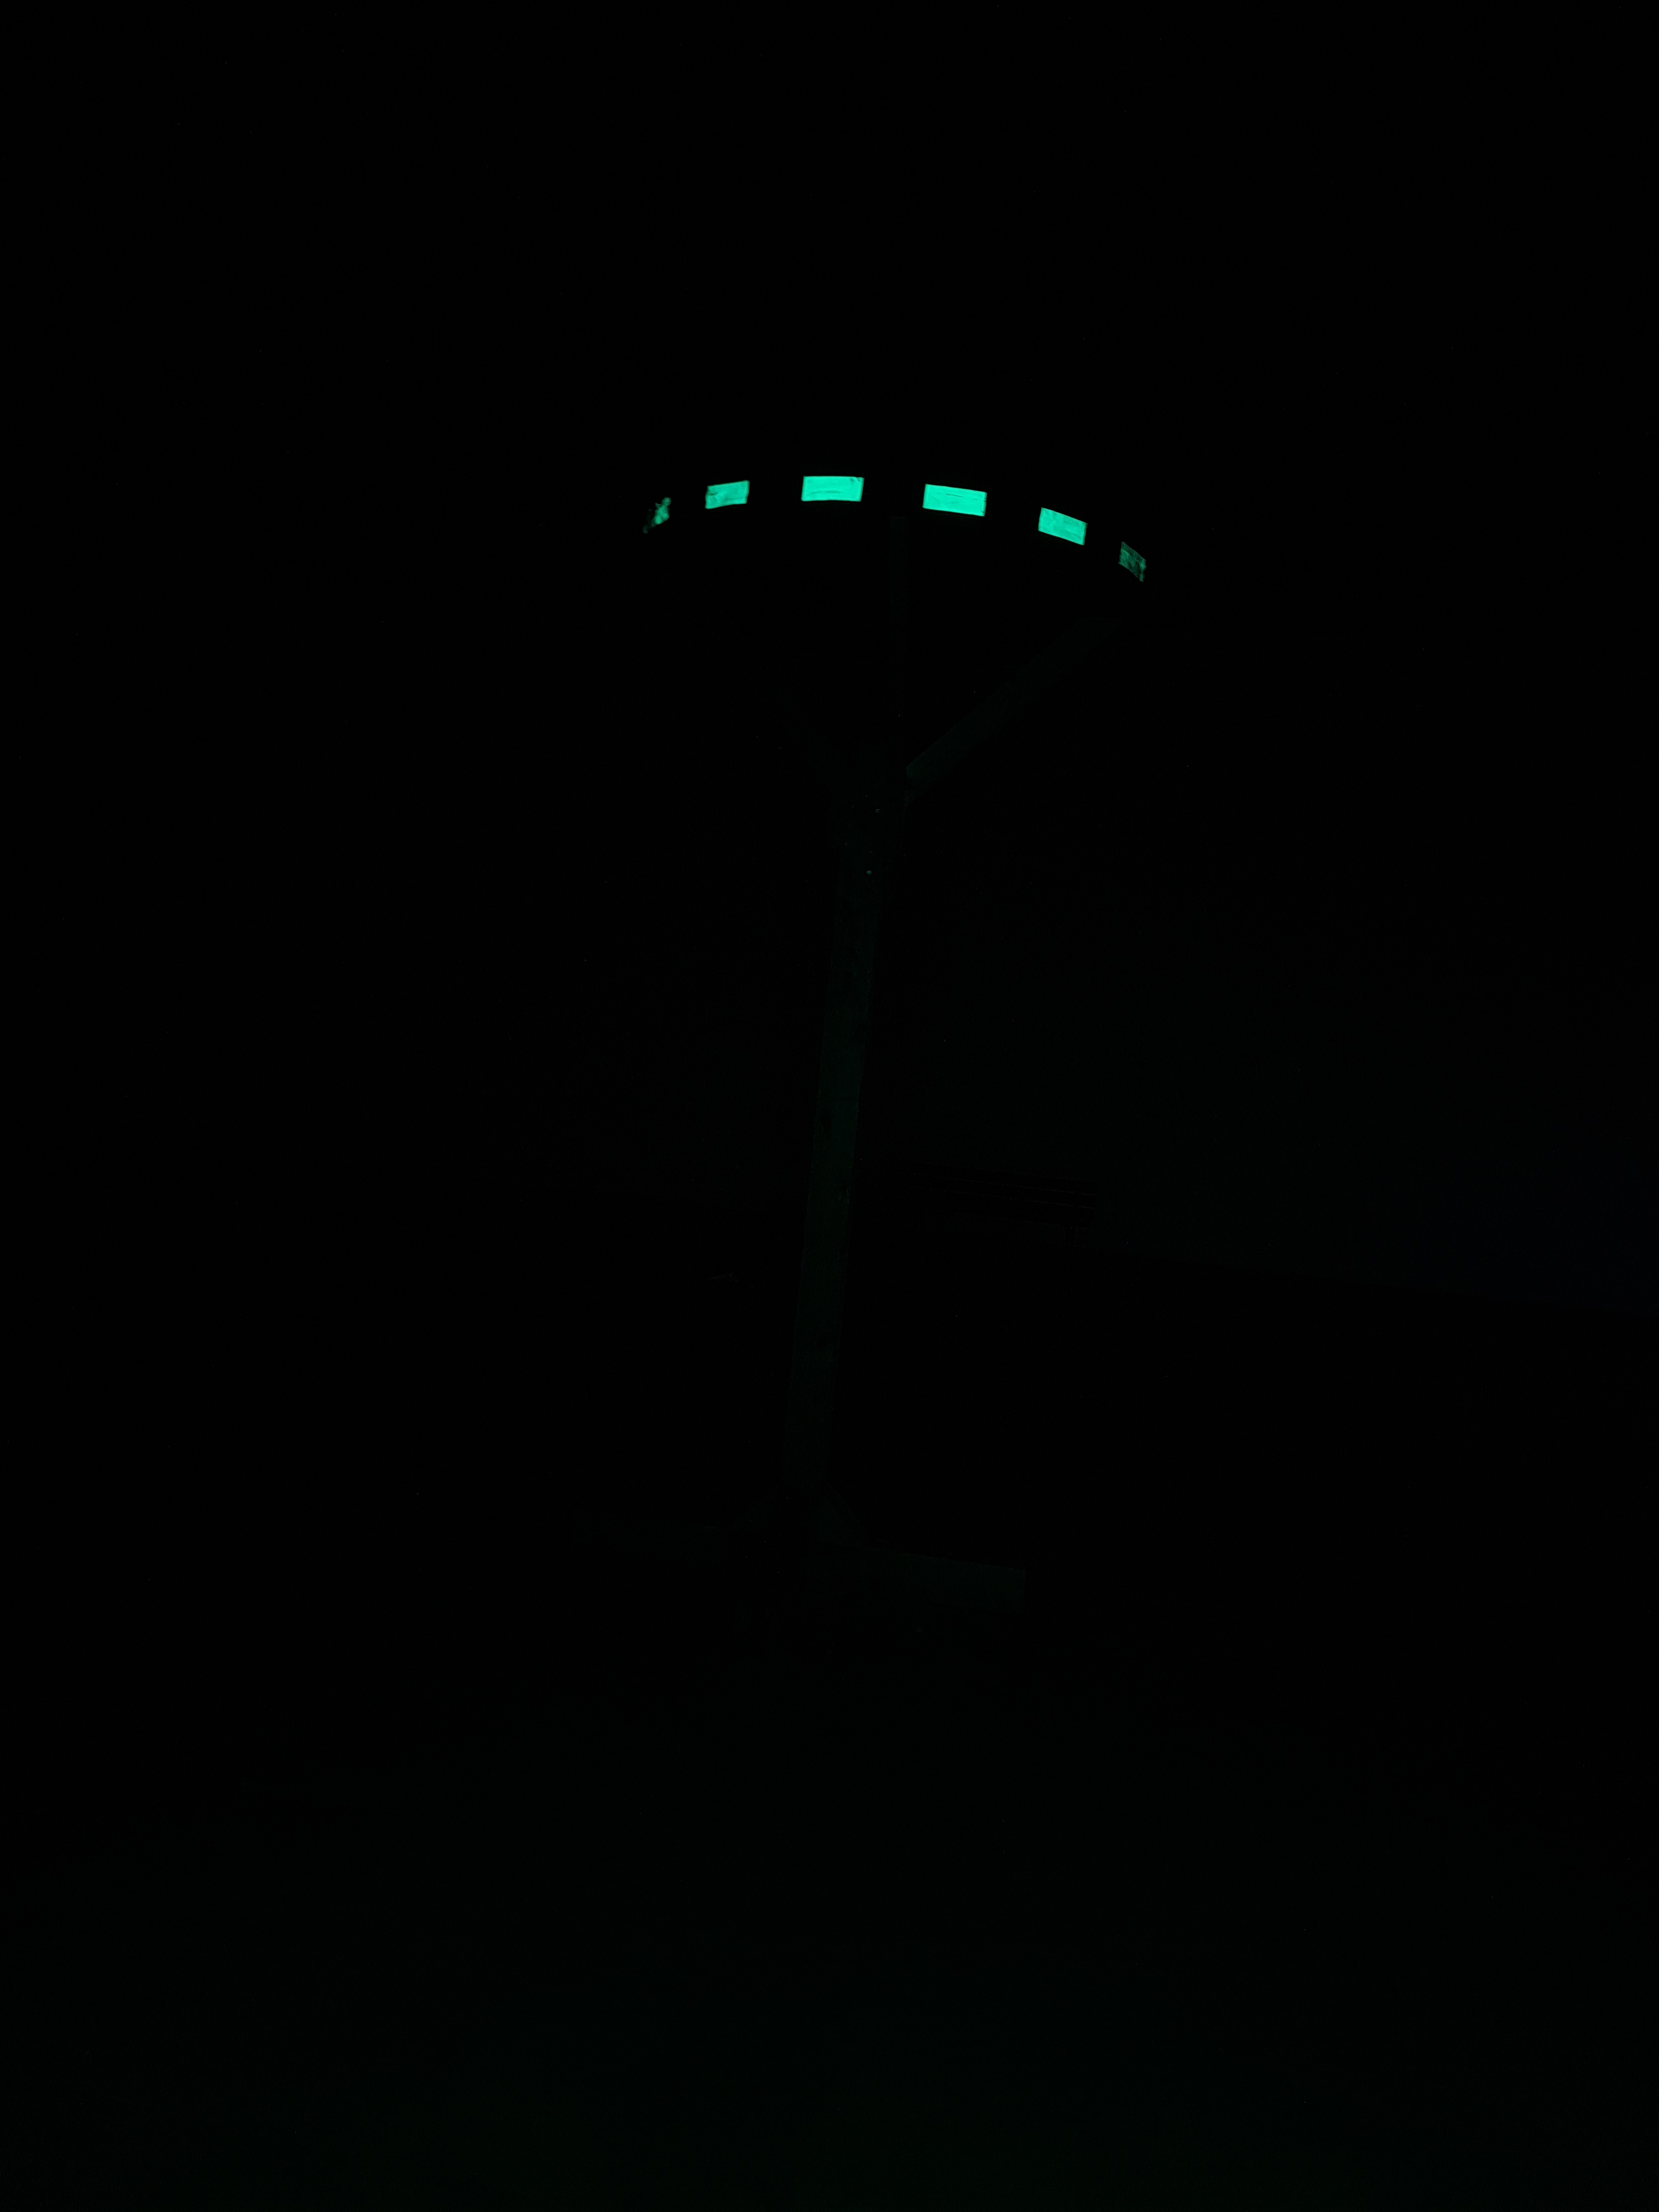hoop: (643, 465, 1159, 592)
